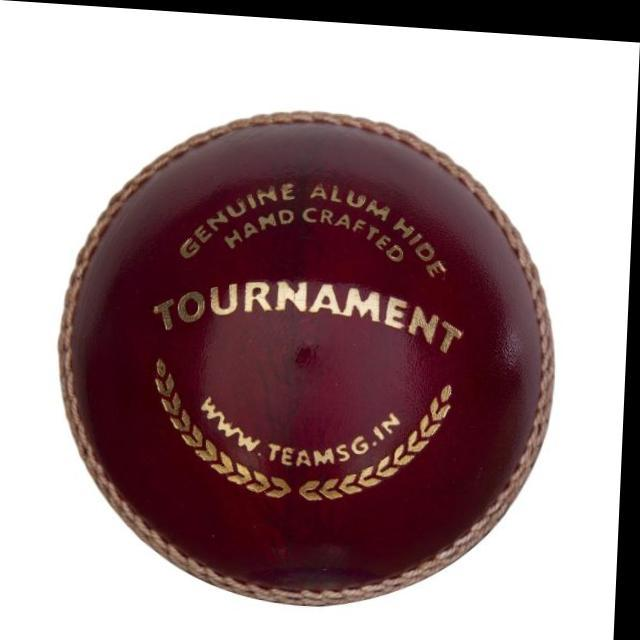cricket ball: (59, 107, 558, 603)
